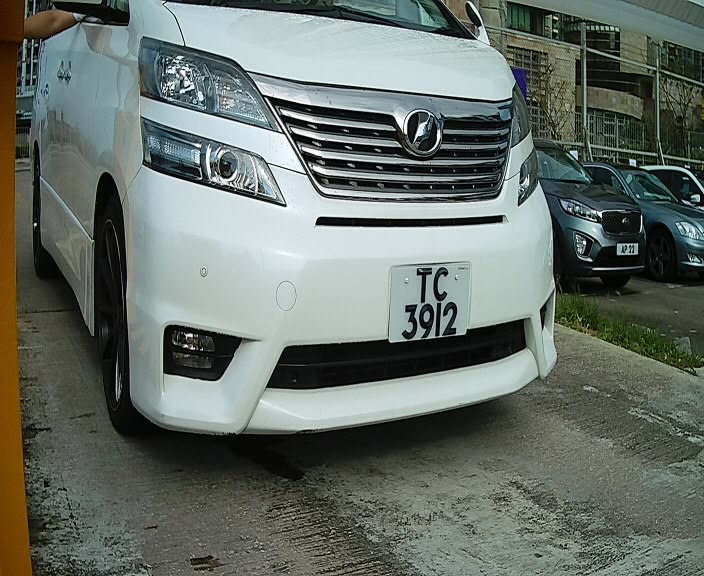Car: (16, 2, 569, 480)
License Plate: (380, 258, 482, 355)
